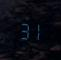one: (30, 20, 40, 40)
three: (19, 19, 29, 39)
